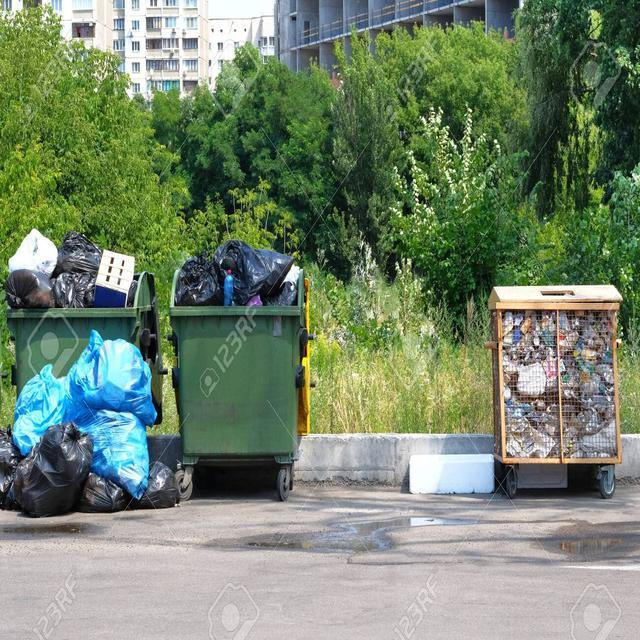garbage: (2, 330, 182, 525), (494, 308, 622, 464), (0, 225, 146, 319), (177, 236, 304, 312), (398, 441, 512, 507), (406, 509, 478, 535)
